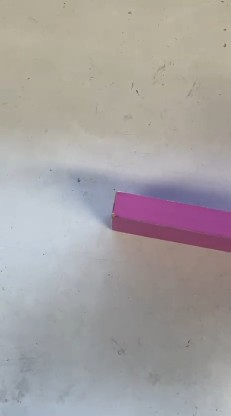pink: (105, 191, 225, 251)
